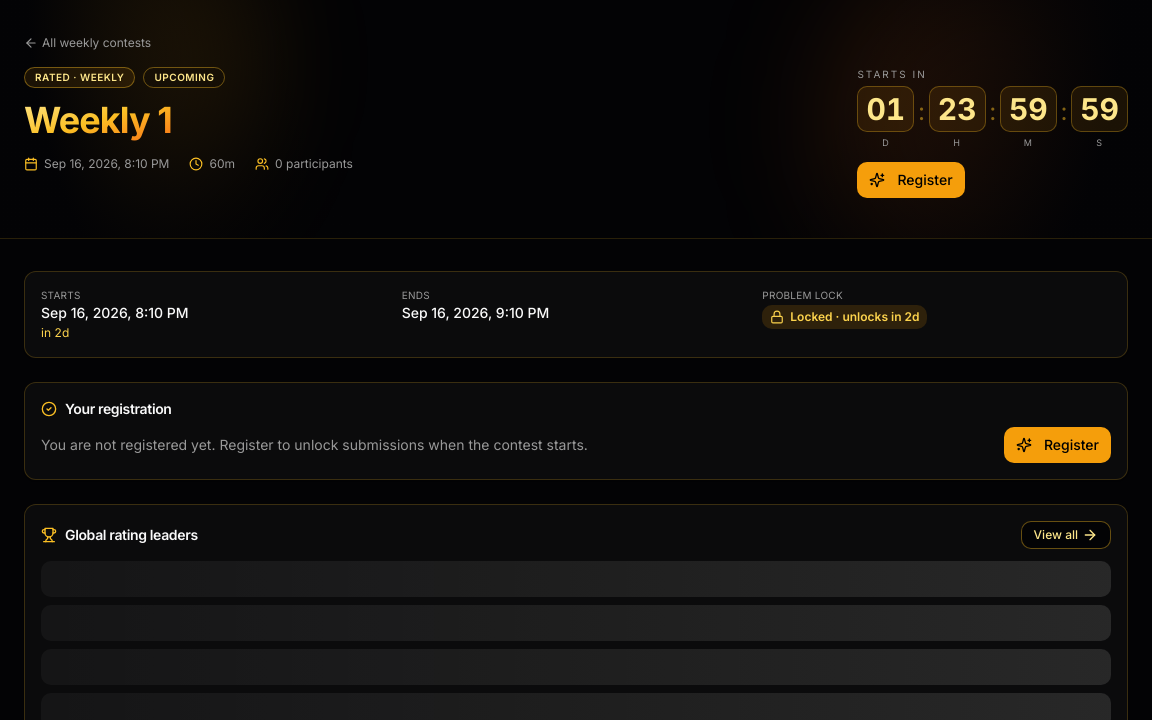
Test: ContestDetails registration persistence › shows Registered badge after clicking Register and persists after reload
This screenshot has width=1152, height=720.
Click the button "Register" below "01".
click(911, 180)  # box [858,162,965,198]
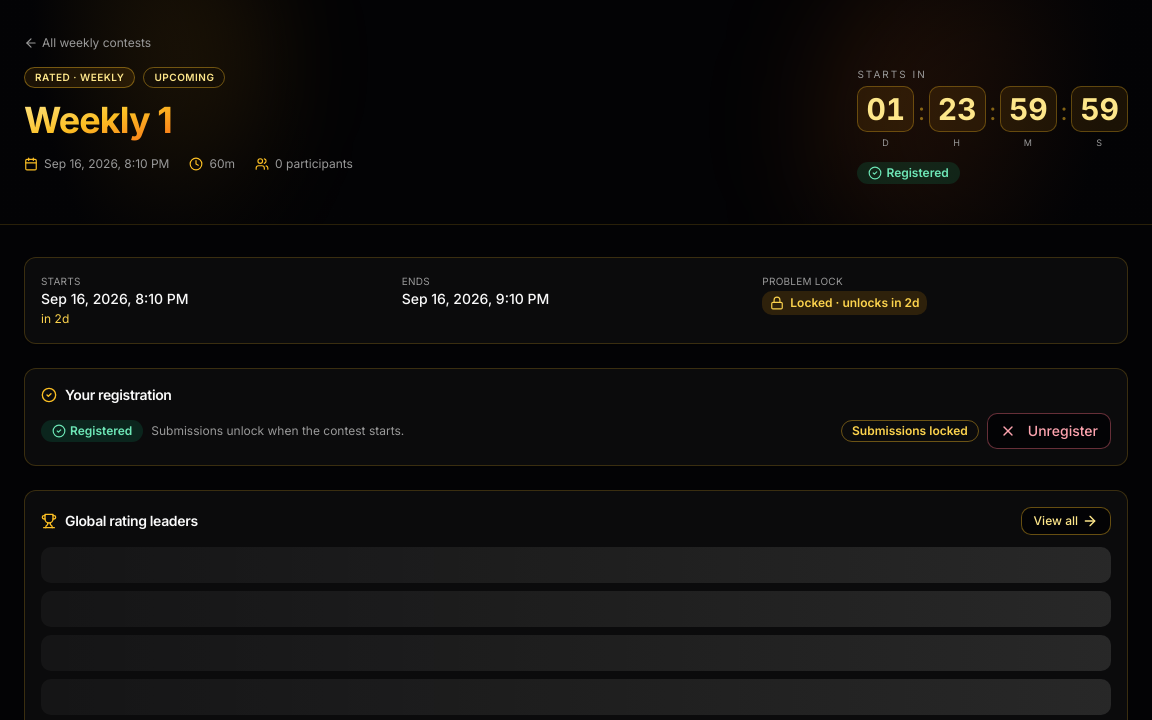
Expected: the element with test id "registered-badge" is shown, [858,162,960,184]
